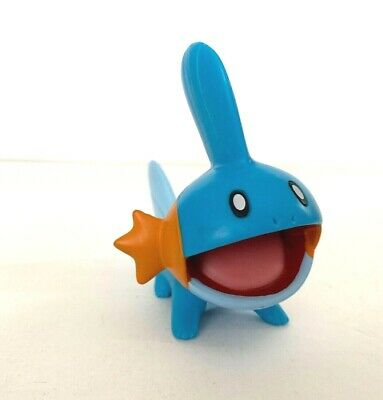mudkip: (127, 39, 327, 342)
